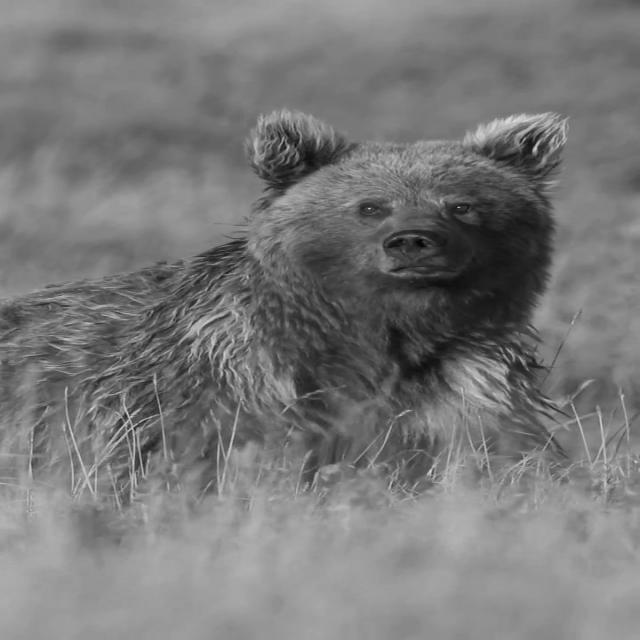Bear: (0, 107, 574, 517)
